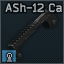ASh-12 rear sight carry handle: (0, 0, 64, 64)
